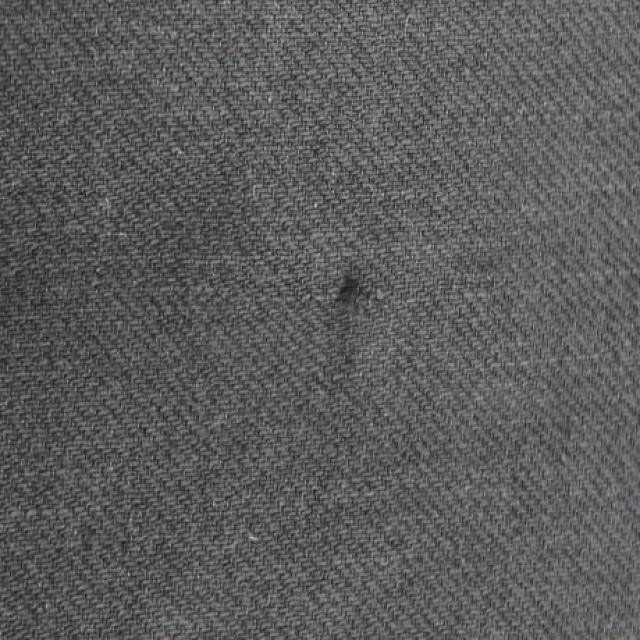seam: (252, 196, 456, 392)
